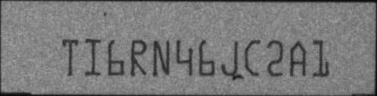1: (312, 39, 330, 78)
2: (267, 39, 283, 77)
4: (175, 39, 192, 76)
6: (108, 40, 125, 76), (199, 39, 215, 76)
A: (289, 40, 306, 76)
C: (244, 40, 261, 76)
I: (84, 37, 101, 76)
J: (220, 38, 237, 76)
N: (152, 39, 169, 78)
R: (129, 38, 146, 78)
T: (62, 38, 79, 76)
